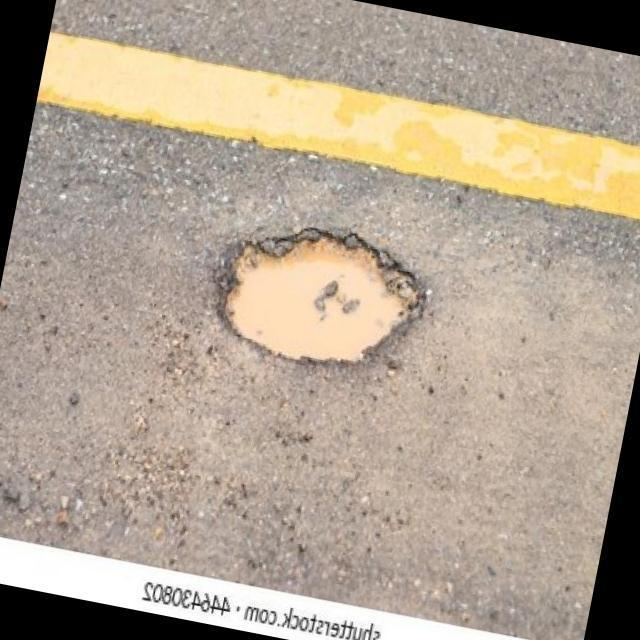Pothole: (222, 229, 427, 365)
